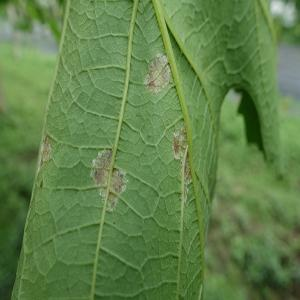Folha: (10, 0, 279, 300)
Fungo: (90, 147, 128, 213), (171, 124, 193, 203), (144, 51, 174, 95), (90, 148, 112, 186), (171, 126, 187, 160), (182, 153, 192, 204), (38, 134, 52, 170)
